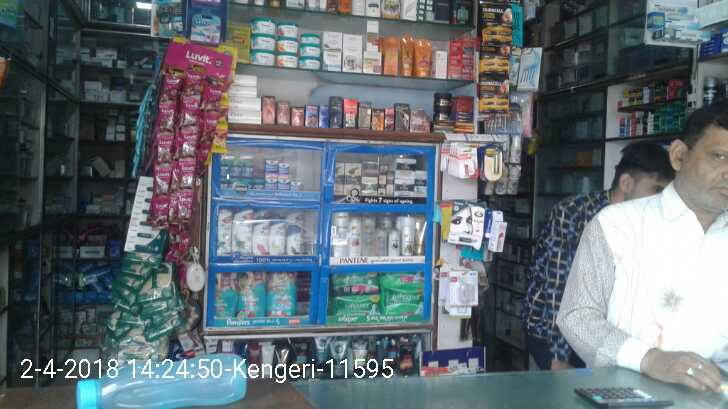vicks: (220, 156, 263, 189), (265, 158, 304, 189)
